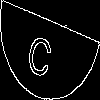C: (25, 25, 56, 80)
